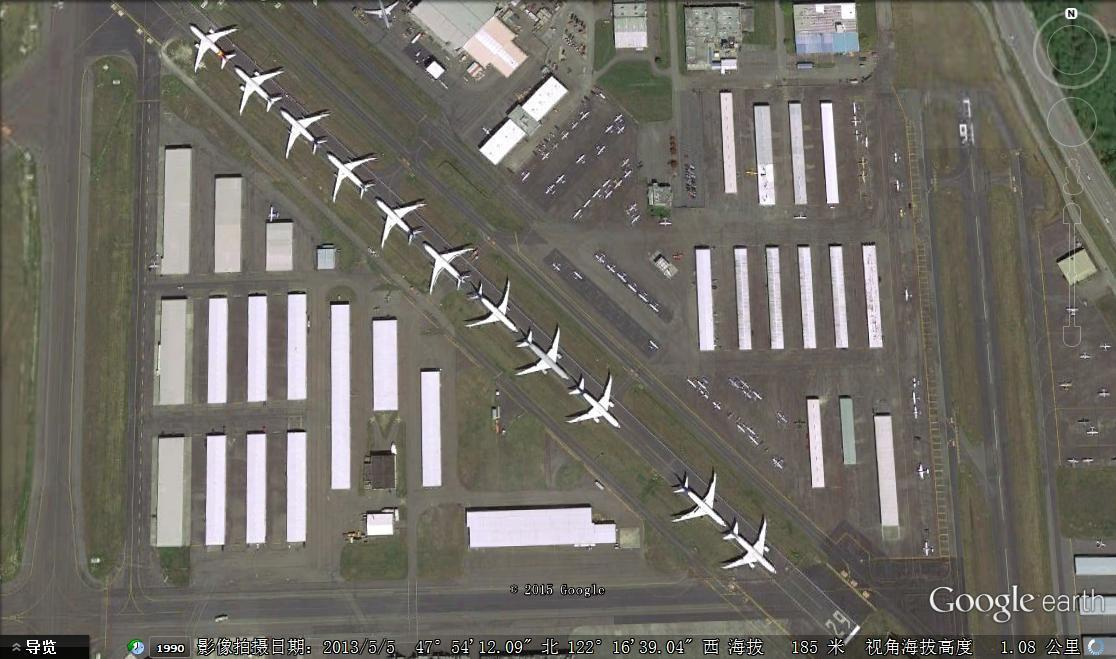aircraft: (718, 512, 781, 579), (418, 236, 482, 297), (564, 370, 625, 432), (671, 467, 730, 531), (459, 277, 521, 337), (511, 322, 571, 381), (324, 147, 383, 205), (276, 105, 333, 163), (230, 63, 286, 120), (374, 194, 429, 251), (187, 20, 241, 77), (363, 0, 403, 34), (772, 407, 793, 431), (919, 538, 940, 561), (915, 461, 935, 484), (656, 212, 676, 235), (853, 167, 872, 191), (588, 248, 610, 265), (749, 388, 768, 407), (908, 374, 926, 394), (554, 169, 571, 190), (646, 299, 663, 320), (769, 454, 786, 475), (569, 267, 588, 285), (1097, 339, 1116, 357), (1056, 378, 1075, 396), (1092, 539, 1110, 558), (592, 138, 608, 159), (903, 282, 917, 306), (1062, 304, 1082, 320), (848, 127, 863, 148), (588, 185, 605, 203), (626, 196, 643, 214), (743, 423, 761, 440), (724, 376, 742, 393), (856, 154, 874, 171), (1083, 423, 1101, 440), (892, 149, 907, 169), (786, 211, 811, 223), (910, 401, 924, 422), (847, 96, 861, 117), (616, 153, 633, 170), (1082, 455, 1099, 472), (518, 168, 534, 186), (646, 337, 662, 355), (892, 177, 908, 195), (1096, 385, 1112, 403), (1065, 454, 1079, 474), (550, 261, 567, 277), (1077, 349, 1094, 365), (859, 134, 874, 152), (636, 290, 652, 306), (708, 398, 724, 414), (625, 281, 643, 295), (614, 270, 629, 286), (845, 116, 865, 128), (610, 111, 627, 125), (617, 169, 636, 181), (602, 122, 617, 137), (574, 152, 589, 167), (611, 178, 626, 193), (684, 375, 699, 390), (738, 376, 753, 391), (746, 433, 762, 447), (559, 127, 571, 145), (538, 149, 553, 163), (582, 198, 597, 212), (545, 183, 559, 197), (604, 263, 618, 277), (569, 119, 582, 134), (577, 110, 592, 123), (572, 207, 585, 222), (604, 189, 616, 204), (910, 391, 922, 406), (733, 423, 746, 435), (602, 178, 613, 191), (744, 390, 753, 400)
